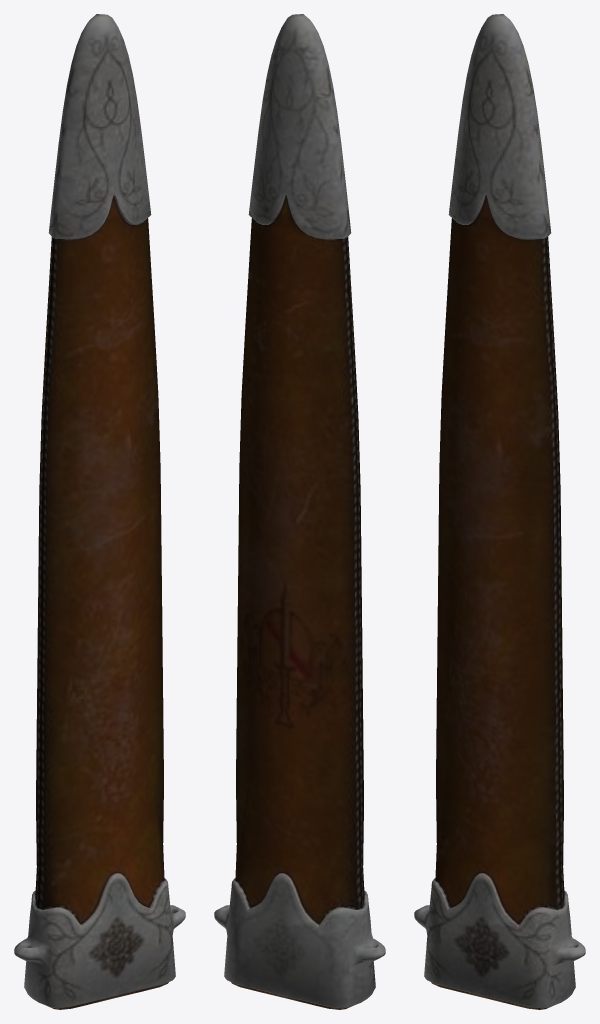
Rendered from ornate_medieval_dagger__scabbard.glb.
3 renders of one model, left to right at view 1: azimuth 30°, elevation 25°; view 2: azimuth 150°, elevation 25°; view 3: azimuth 330°, elevation 25°, orthographic.
Parts seen in each view (by area): view 1: ornate_medieval_dagger; view 2: ornate_medieval_dagger; view 3: ornate_medieval_dagger.
Boxes of the visible parts, x1,y1,x2,y2 form: ornate_medieval_dagger: [14, 14, 185, 1009]; ornate_medieval_dagger: [214, 14, 385, 1009]; ornate_medieval_dagger: [414, 14, 585, 1009].
Size of the model in its own units: 0.0399 by 0.2192 by 0.0148.
Materials: 1 (1 with a texture image).
